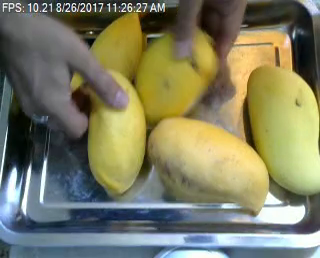Mango: (148, 114, 268, 213), (246, 65, 320, 195), (134, 24, 217, 122), (86, 68, 146, 195), (83, 7, 142, 80)
